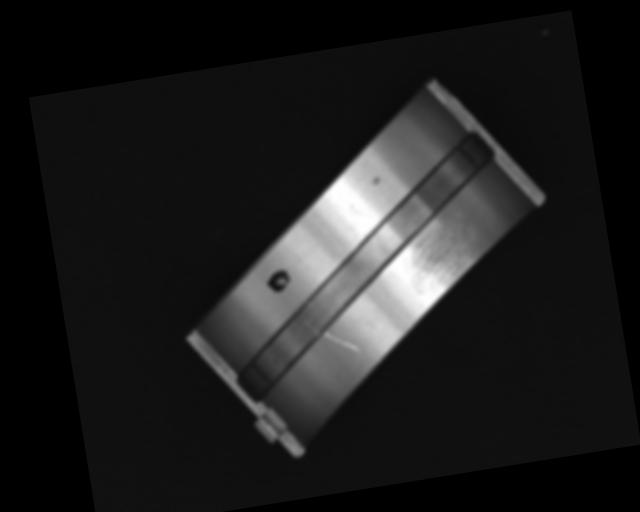blot: (264, 266, 294, 296)
bruise: (370, 175, 382, 187)
gap: (203, 132, 528, 405)
nick: (324, 325, 361, 356), (285, 243, 313, 274)
scratch: (400, 218, 488, 302)
